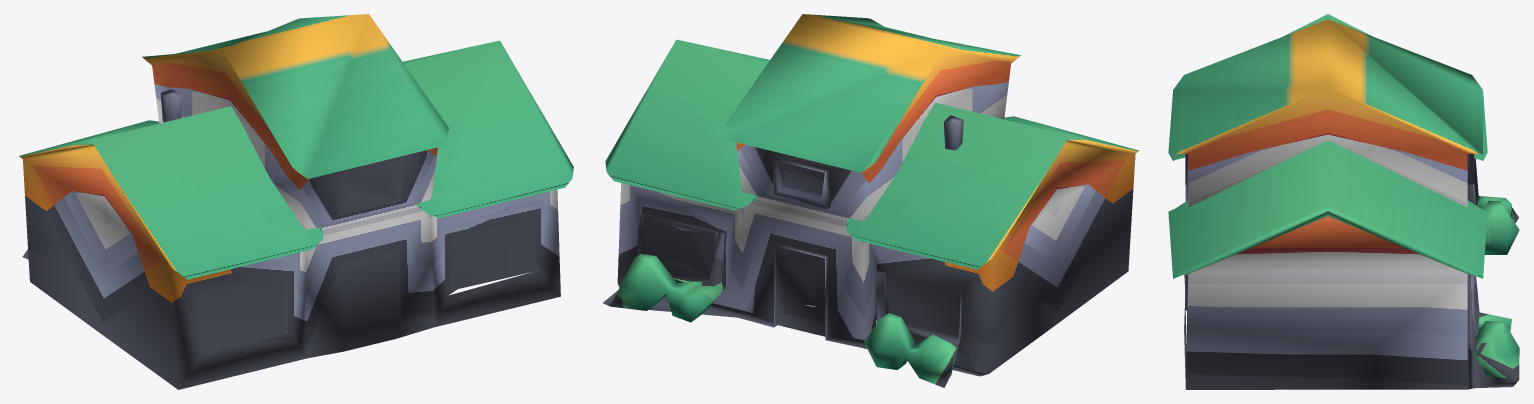
Rendered from building-type-a_mid.glb.
3 renders of one model, left to right at view 1: azimuth 30°, elevation 25°; view 2: azimuth 150°, elevation 25°; view 3: azimuth 270°, elevation 25°, orthographic. The views are drawn at different scales.
Parts seen in each view (by area): view 1: building-type-a_mid; view 2: building-type-a_mid; view 3: building-type-a_mid.
Boxes of the visible parts, bbox=[...] form: building-type-a_mid: bbox=[19, 14, 573, 389]; building-type-a_mid: bbox=[603, 14, 1138, 387]; building-type-a_mid: bbox=[1168, 14, 1519, 389].
Bounding box in the file's own units: 7.8 × 4.87 × 6.04.
1 material, 1 textured.
